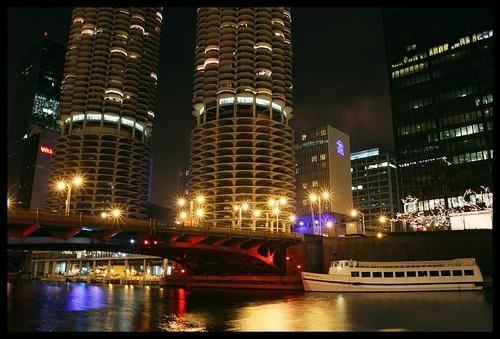boat: (301, 256, 488, 294)
